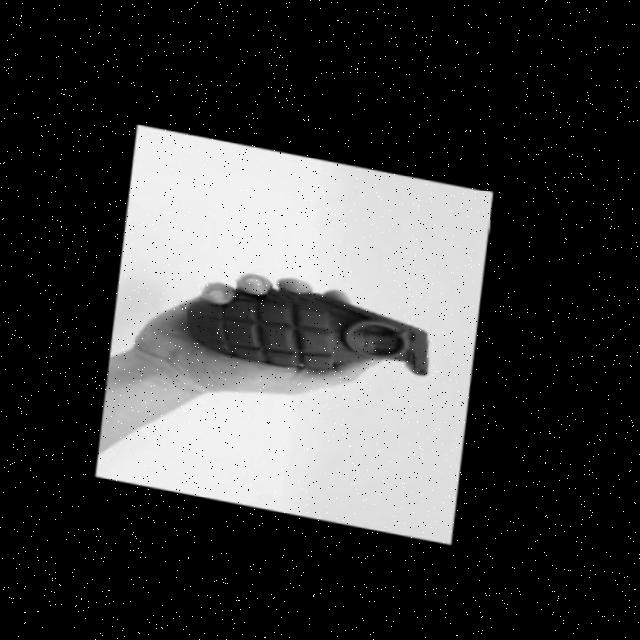grenade: (150, 254, 444, 388)
